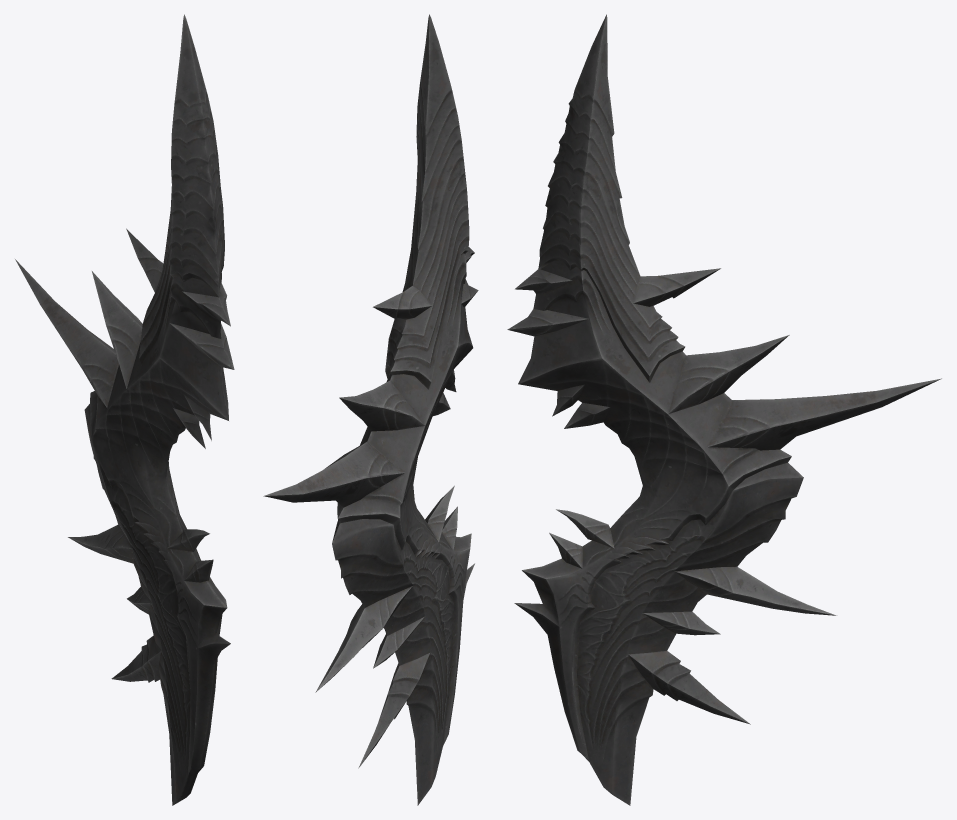
File: bg_rad_kamen_pillar11_sm_alchemy.obj
The picture shows the model from 3 angles, left to right: view 1: azimuth 30°, elevation 25°; view 2: azimuth 150°, elevation 25°; view 3: azimuth 270°, elevation 25°; orthographic projection. The views are drawn at different scales.
Parts seen in each view (by area): view 1: bg_rad_kamen_pillar11_sm_alchemy_0; view 2: bg_rad_kamen_pillar11_sm_alchemy_0; view 3: bg_rad_kamen_pillar11_sm_alchemy_0.
Part boxes in pixels (<box>): bg_rad_kamen_pillar11_sm_alchemy_0: <box>15,14,234,805</box>; bg_rad_kamen_pillar11_sm_alchemy_0: <box>263,14,478,805</box>; bg_rad_kamen_pillar11_sm_alchemy_0: <box>507,14,941,805</box>.
Size of the model in its own units: 0.4424 by 5.34 by 2.66.
Materials: 1 (1 with a texture image).
